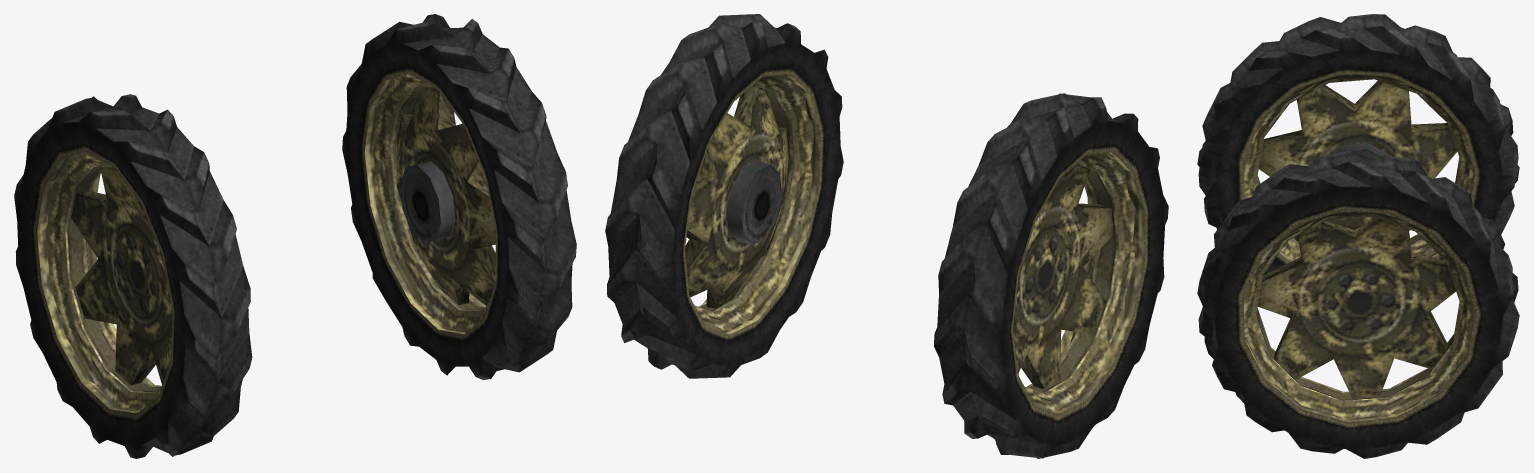
The model's file is rodas_tras.glb.
3 views of the same model, side by side, from view 1: azimuth 30°, elevation 25°; view 2: azimuth 150°, elevation 25°; view 3: azimuth 270°, elevation 25° (orthographic). The views are drawn at different scales.
Visible parts, largest first — view 1: trator_rodas_tras; view 2: trator_rodas_tras; view 3: trator_rodas_tras.
Boxes of the visible parts, left/top/right/bottom form: trator_rodas_tras: left=14, top=14, right=576, bottom=458; trator_rodas_tras: left=605, top=14, right=1168, bottom=458; trator_rodas_tras: left=1197, top=14, right=1519, bottom=458.
Size of the model in its own units: 2.09 by 1.7 by 1.7.
2 materials, 2 textured.
